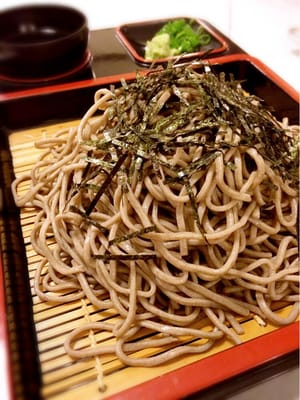curry: (146, 19, 210, 59)
sushi: (7, 60, 298, 397)
